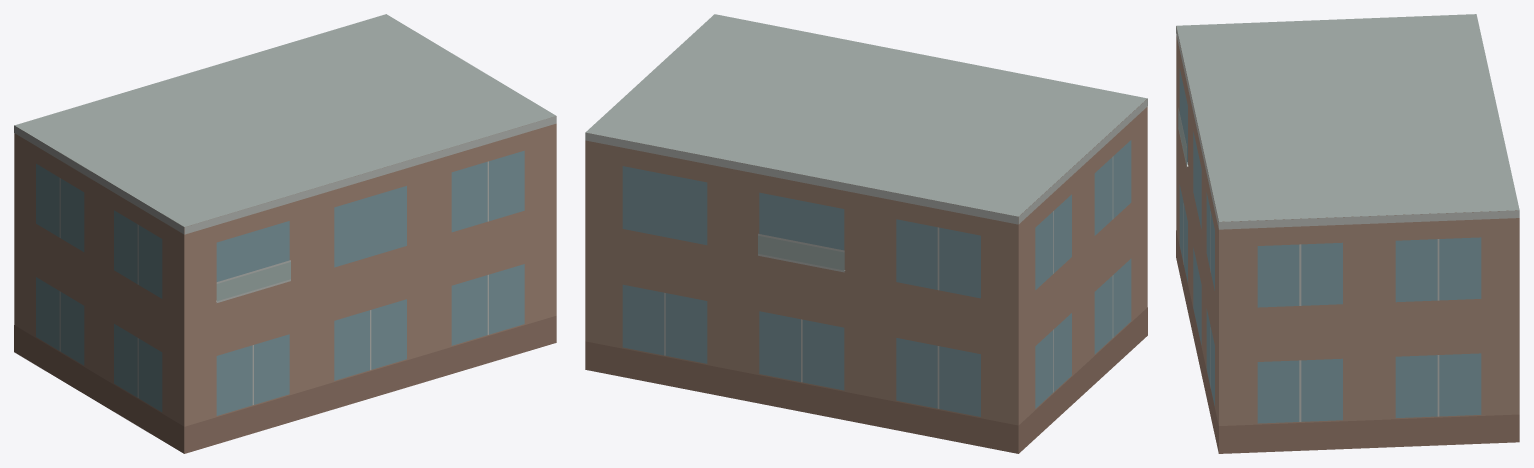
The model's file is survey-upis-32611749.glb.
The picture shows the model from 3 angles, left to right: view 1: azimuth 30°, elevation 25°; view 2: azimuth 150°, elevation 25°; view 3: azimuth 270°, elevation 25°; orthographic projection. The views are drawn at different scales.
Parts seen in each view (by area): view 1: survey-upis-32611749.tmp; view 2: survey-upis-32611749.tmp; view 3: survey-upis-32611749.tmp.
Boxes of the visible parts, x1,y1,x2,y2 form: survey-upis-32611749.tmp: (14,14,556,453); survey-upis-32611749.tmp: (585,14,1147,453); survey-upis-32611749.tmp: (1176,14,1519,453).
Bounding box in the file's own units: 14.04 × 7.3 × 9.81.
